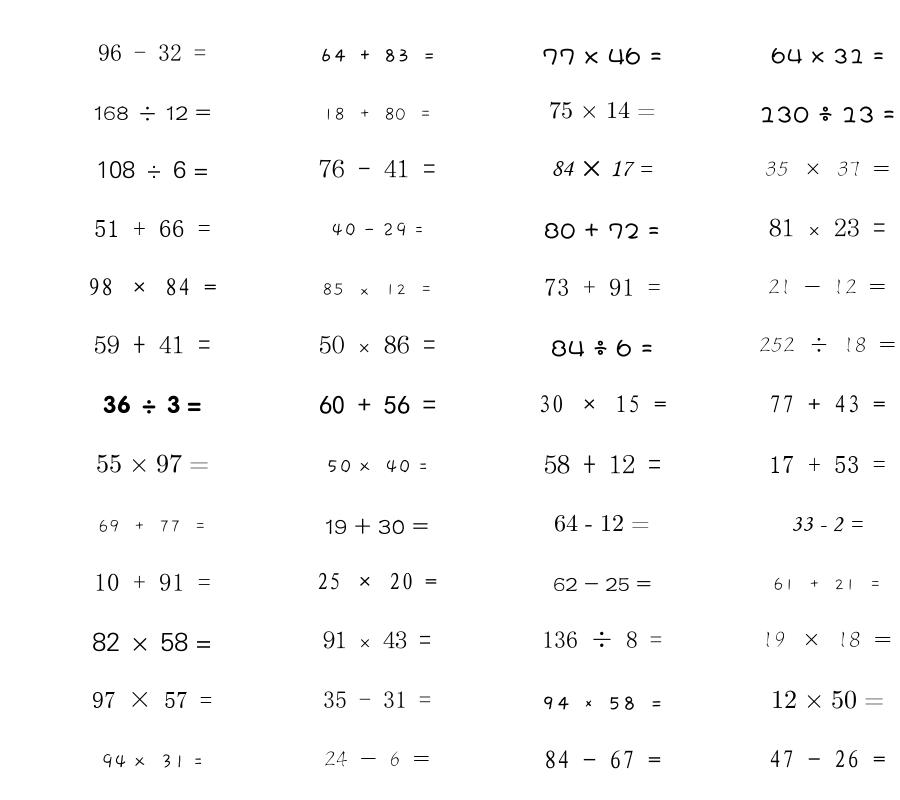MQ: (92, 632, 212, 652), (319, 395, 436, 415), (544, 454, 661, 474), (88, 278, 217, 296), (538, 395, 667, 413), (759, 106, 895, 123), (319, 159, 436, 178), (769, 218, 886, 237), (94, 335, 211, 354), (319, 335, 436, 354), (544, 750, 661, 769), (762, 631, 892, 648), (759, 337, 896, 353), (542, 47, 662, 65), (317, 572, 437, 590), (96, 160, 209, 179), (96, 454, 209, 473), (771, 690, 884, 709), (544, 278, 661, 296), (769, 395, 886, 413), (94, 573, 211, 591), (769, 750, 886, 768), (542, 631, 662, 648), (92, 691, 212, 708), (765, 161, 890, 177), (94, 220, 211, 237), (769, 456, 886, 473), (544, 222, 660, 239), (323, 631, 431, 649), (549, 101, 656, 119), (771, 47, 884, 64), (768, 279, 886, 295), (103, 395, 201, 414), (98, 44, 206, 61), (551, 339, 653, 357), (323, 691, 431, 708), (325, 518, 429, 535), (94, 106, 211, 121), (551, 160, 653, 177), (554, 514, 650, 532), (541, 696, 663, 710), (324, 751, 430, 767), (319, 48, 436, 62), (101, 753, 203, 769), (326, 459, 428, 474), (323, 107, 432, 121), (98, 519, 207, 533), (773, 577, 882, 591), (322, 283, 433, 296), (331, 222, 424, 237), (553, 577, 651, 591), (791, 517, 863, 532)
